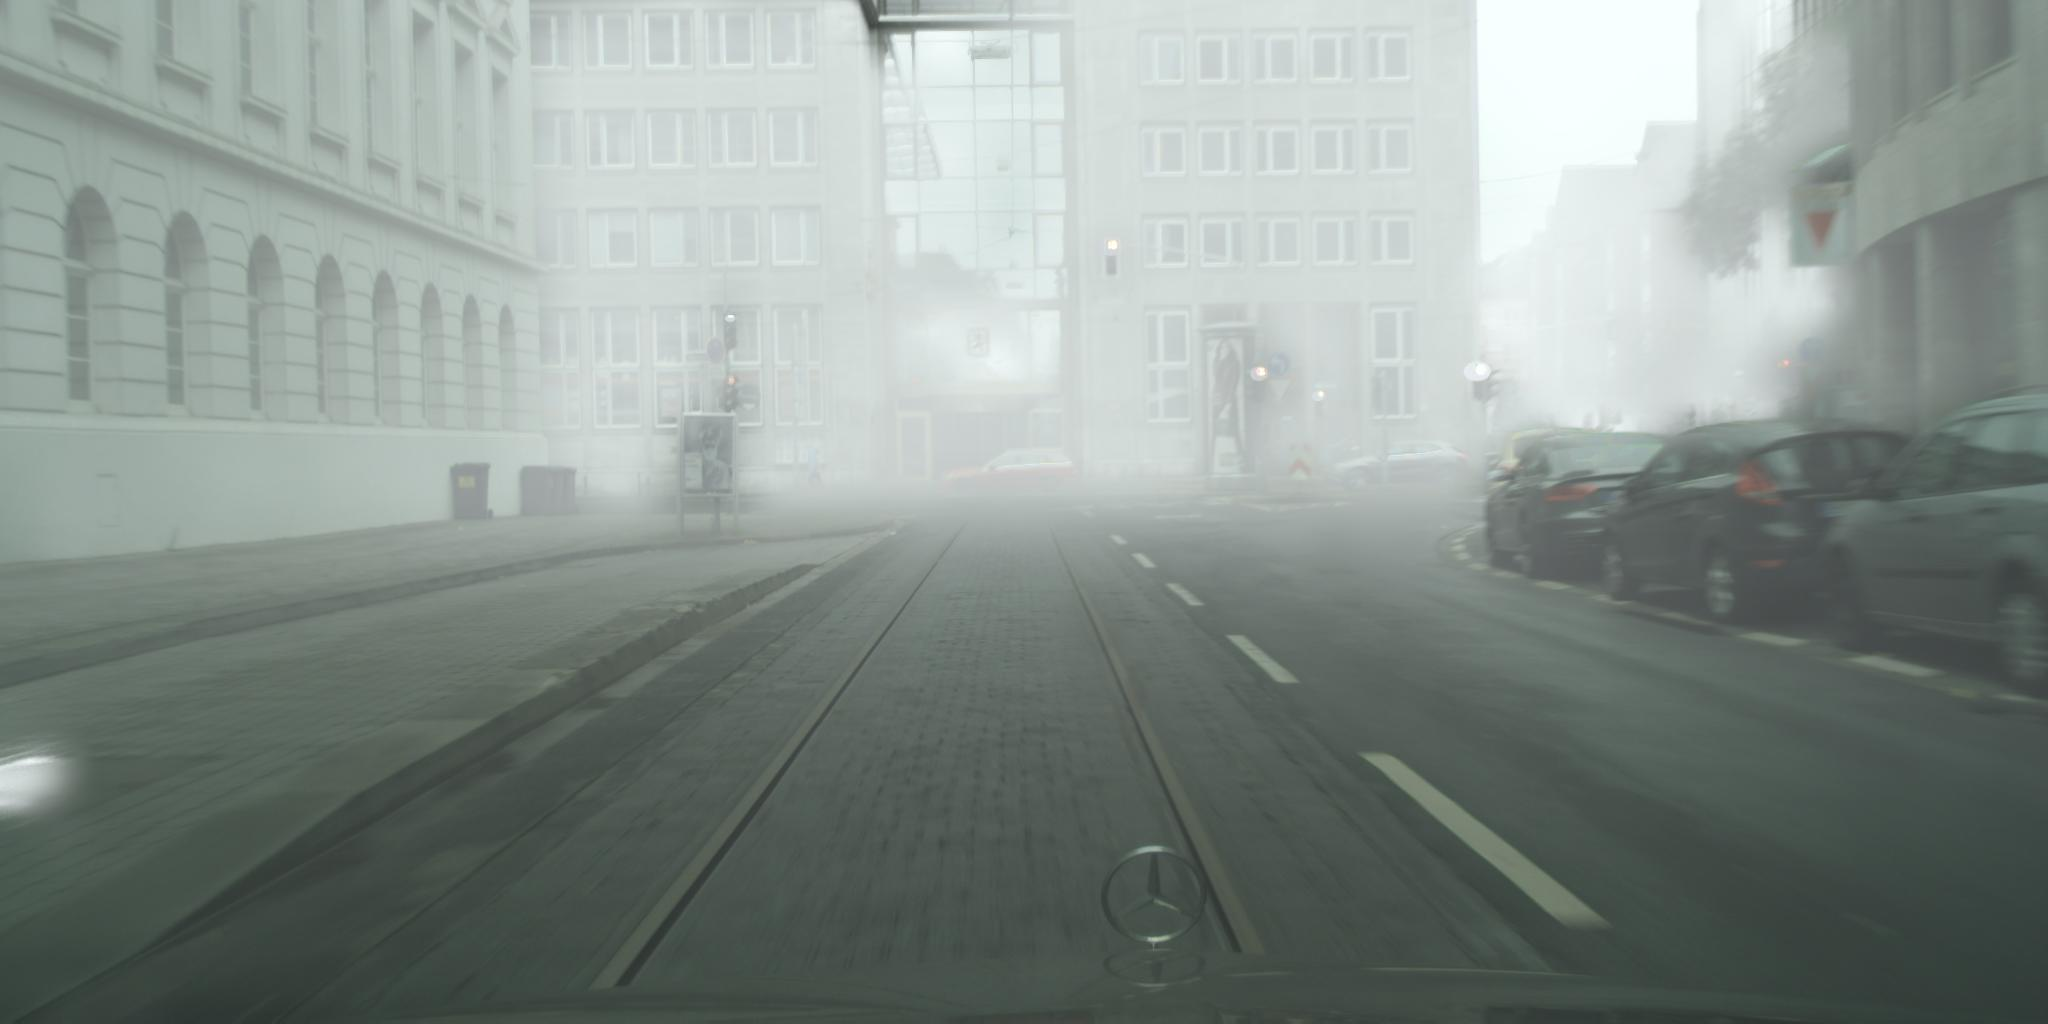car: (1814, 383, 2048, 701), (1599, 418, 1924, 630), (1484, 434, 1684, 580), (1323, 440, 1473, 492), (1496, 428, 1605, 498), (939, 451, 1083, 499)
